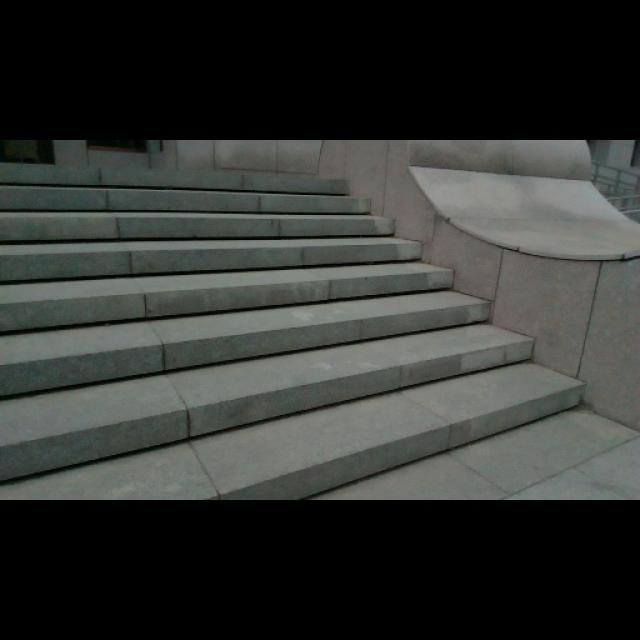stair: (4, 156, 435, 483)
